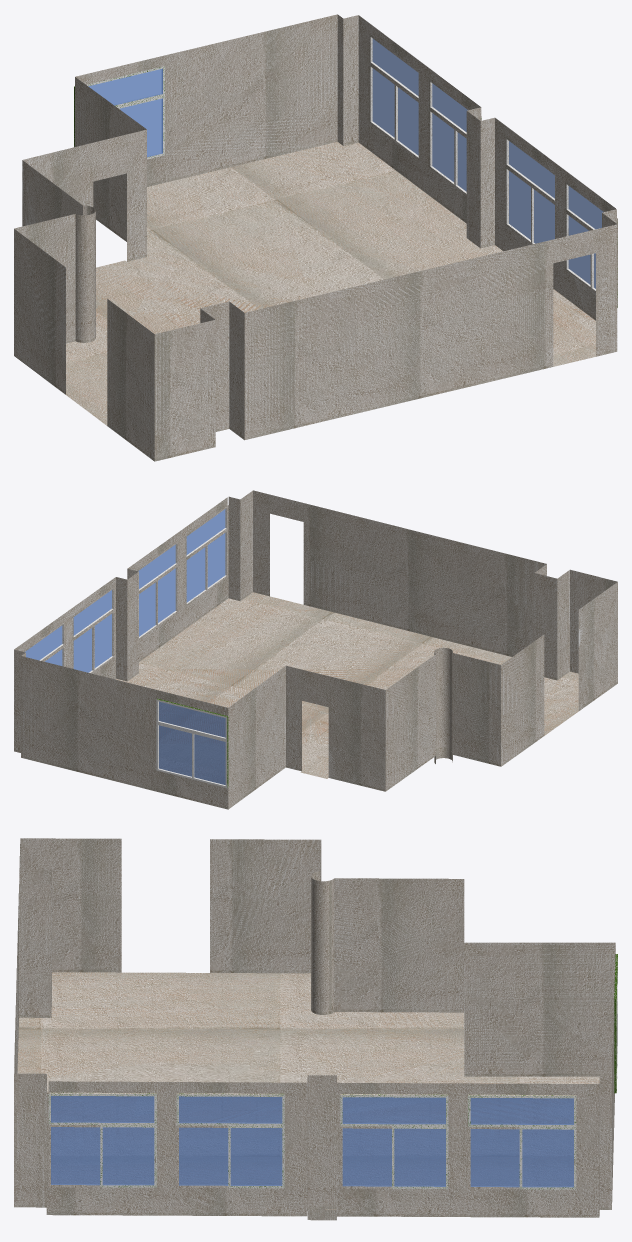
The model's file is LAB018.obj.
3 views of the same model, one above another, from view 1: azimuth 30°, elevation 25°; view 2: azimuth 150°, elevation 25°; view 3: azimuth 270°, elevation 25° (orthographic). The views are drawn at different scales.
Visible parts, largest first — view 1: Mesh31 LAB018 Model, Mesh1 ventana1_1_1 LAB018 Model, Mesh13 ventana1_1_3 LAB018 Model, Mesh25 ventana1_1_5 LAB018 Model, Mesh7 ventana1_1_2 LAB018 Model, Mesh19 ventana1_1_4 LAB018 Model; view 2: Mesh31 LAB018 Model, Mesh25 ventana1_1_5 LAB018 Model, Mesh19 ventana1_1_4 LAB018 Model, Mesh7 ventana1_1_2 LAB018 Model, Mesh13 ventana1_1_3 LAB018 Model, Mesh1 ventana1_1_1 LAB018 Model; view 3: Mesh31 LAB018 Model, Mesh19 ventana1_1_4 LAB018 Model, Mesh1 ventana1_1_1 LAB018 Model, Mesh13 ventana1_1_3 LAB018 Model, Mesh7 ventana1_1_2 LAB018 Model.
Boxes of the visible parts, left/top/right/bottom form: Mesh31 LAB018 Model: left=14, top=14, right=617, bottom=461; Mesh1 ventana1_1_1 LAB018 Model: left=369, top=34, right=419, bottom=160; Mesh13 ventana1_1_3 LAB018 Model: left=505, top=136, right=556, bottom=244; Mesh25 ventana1_1_5 LAB018 Model: left=74, top=66, right=164, bottom=159; Mesh7 ventana1_1_2 LAB018 Model: left=429, top=79, right=481, bottom=195; Mesh19 ventana1_1_4 LAB018 Model: left=565, top=181, right=617, bottom=307; Mesh31 LAB018 Model: left=14, top=490, right=617, bottom=809; Mesh25 ventana1_1_5 LAB018 Model: left=156, top=698, right=228, bottom=788; Mesh19 ventana1_1_4 LAB018 Model: left=185, top=506, right=227, bottom=606; Mesh7 ventana1_1_2 LAB018 Model: left=72, top=586, right=114, bottom=673; Mesh13 ventana1_1_3 LAB018 Model: left=136, top=541, right=178, bottom=639; Mesh1 ventana1_1_1 LAB018 Model: left=23, top=622, right=64, bottom=666; Mesh31 LAB018 Model: left=14, top=838, right=615, bottom=1220; Mesh19 ventana1_1_4 LAB018 Model: left=48, top=1092, right=156, bottom=1187; Mesh1 ventana1_1_1 LAB018 Model: left=468, top=1094, right=576, bottom=1189; Mesh13 ventana1_1_3 LAB018 Model: left=176, top=1093, right=284, bottom=1188; Mesh7 ventana1_1_2 LAB018 Model: left=340, top=1094, right=448, bottom=1188.
Size of the model in its own units: 11.87 by 3.25 by 12.28.
8 materials, 3 textured.
